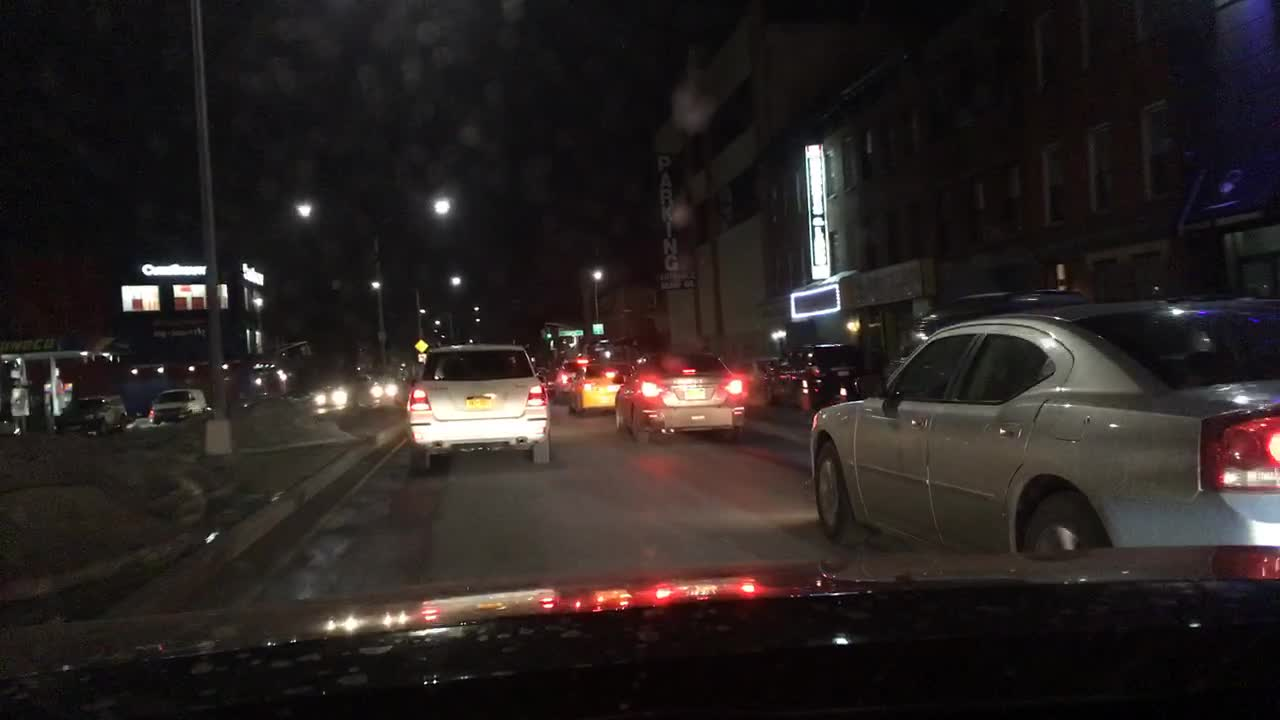car: (807, 292, 1279, 555), (881, 290, 1095, 400), (406, 344, 552, 477), (614, 348, 749, 444), (764, 344, 862, 413), (564, 361, 629, 411), (53, 392, 128, 434), (718, 353, 764, 414), (146, 386, 204, 423), (556, 358, 586, 395), (366, 376, 401, 407), (314, 388, 352, 412), (537, 362, 562, 395)
traffic light: (545, 324, 552, 336)
traffic sign: (558, 327, 583, 336), (415, 337, 426, 350), (592, 322, 601, 334)
